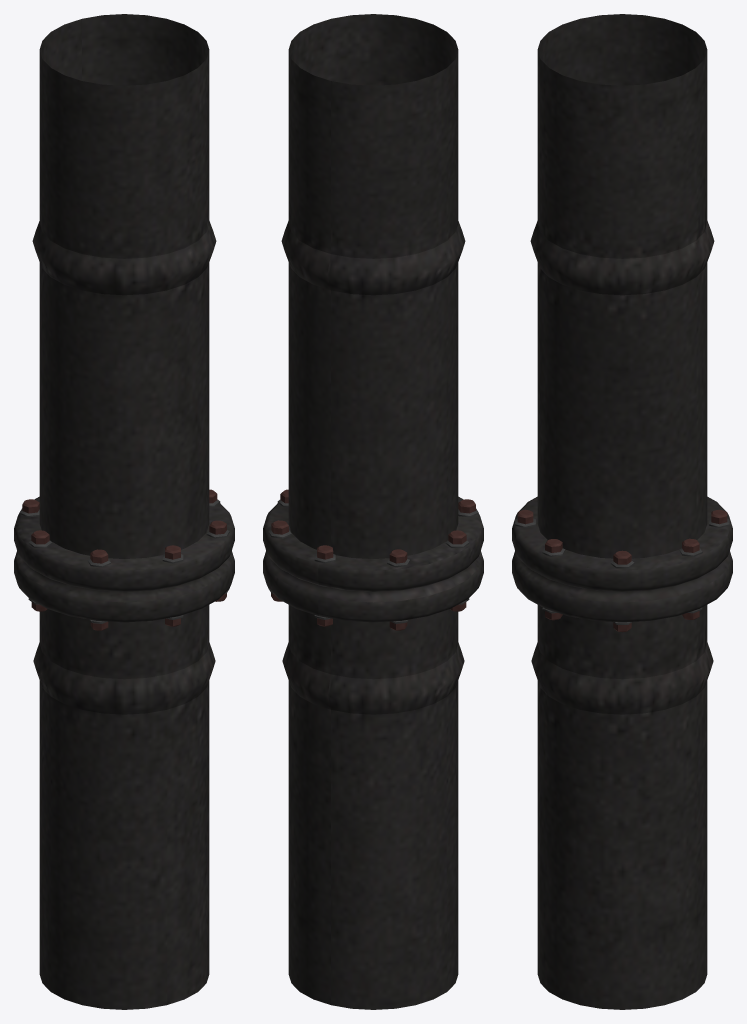
Rendered from pipe_1_short.obj.
3 renders of one model, left to right at view 1: azimuth 30°, elevation 25°; view 2: azimuth 150°, elevation 25°; view 3: azimuth 270°, elevation 25°, orthographic.
Parts seen in each view (by area): view 1: pipe_1_short; view 2: pipe_1_short; view 3: pipe_1_short.
Part boxes in pixels (<box>): pipe_1_short: <box>14,14,234,1009</box>; pipe_1_short: <box>263,14,483,1009</box>; pipe_1_short: <box>512,14,732,1009</box>.
Size of the model in its own units: 0.26 by 1.2 by 0.26.
